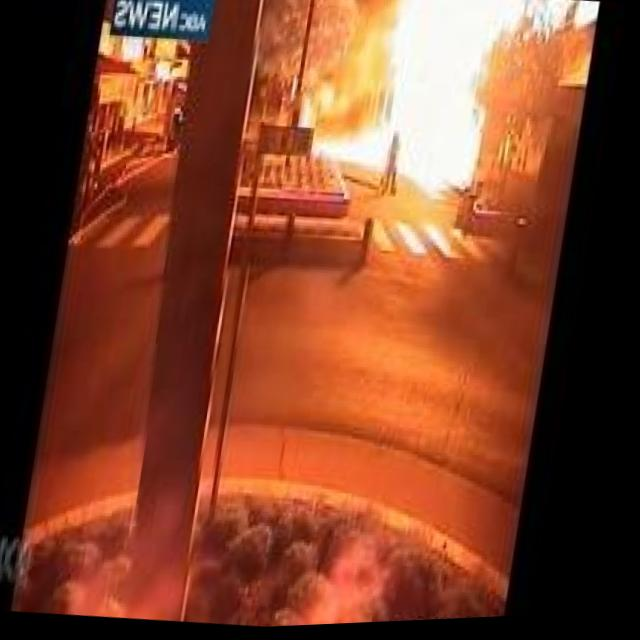fire: (303, 0, 526, 211)
